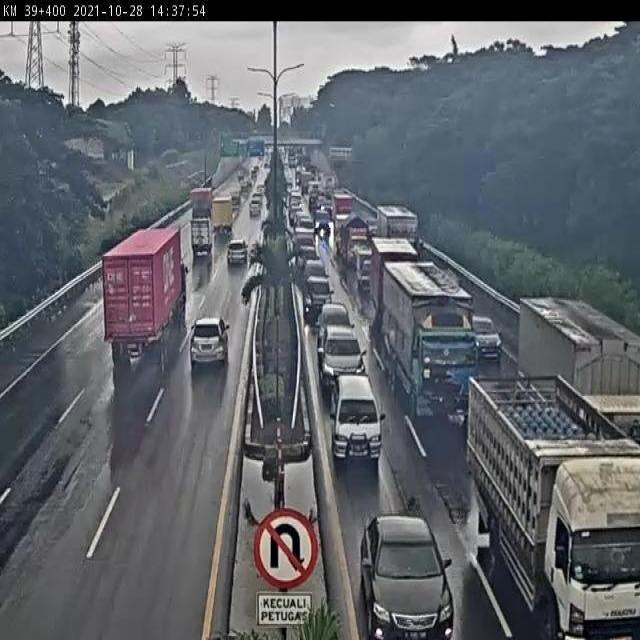Car: (359, 512, 456, 640), (318, 325, 369, 396), (313, 301, 357, 345), (190, 317, 228, 366), (471, 315, 505, 362), (302, 273, 333, 323), (300, 255, 329, 286), (227, 239, 248, 266), (295, 244, 318, 266), (314, 210, 331, 233), (248, 200, 262, 218), (256, 183, 267, 196), (252, 191, 263, 204)
Truck: (463, 372, 640, 640), (518, 294, 640, 448), (380, 258, 481, 417), (100, 225, 189, 365), (364, 238, 420, 316), (342, 212, 370, 272), (376, 205, 418, 242), (355, 250, 378, 294), (210, 194, 234, 236), (189, 216, 213, 256), (189, 184, 215, 218), (333, 212, 350, 253), (333, 192, 353, 217), (230, 188, 242, 206)
Van: (329, 373, 387, 465)
